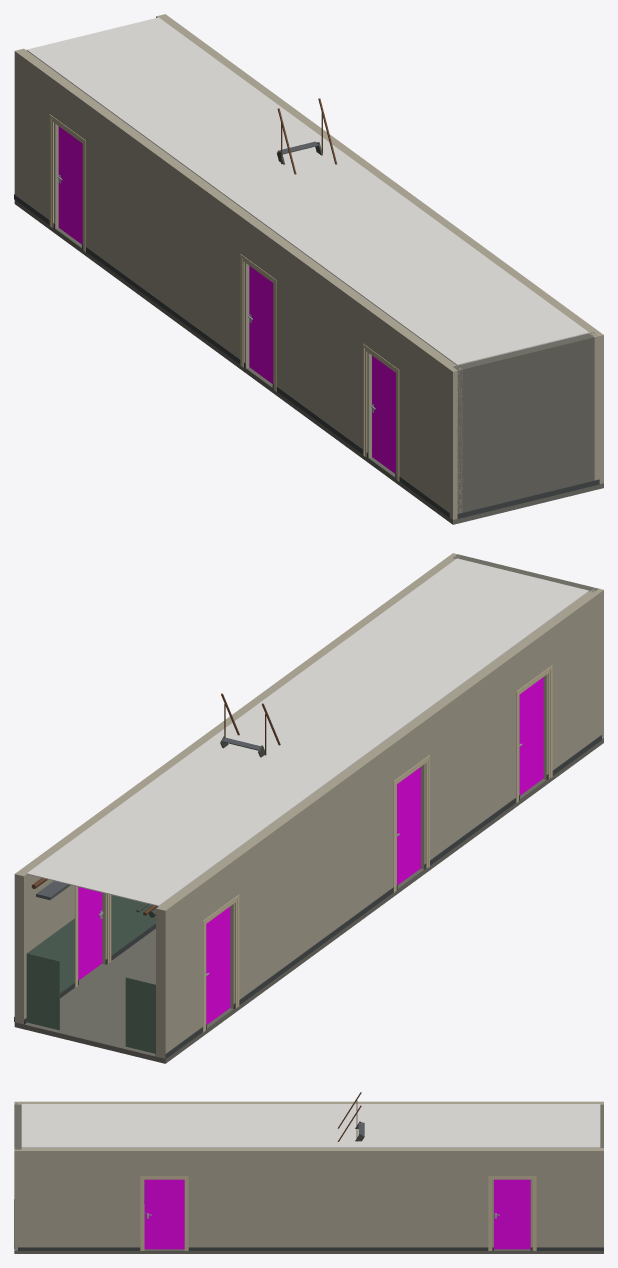
The model's file is ENV_W0_ServiceCorridor_16m.glb.
3 views of the same model, one above another, from view 1: azimuth 30°, elevation 25°; view 2: azimuth 150°, elevation 25°; view 3: azimuth 270°, elevation 25° (orthographic). The views are drawn at different scales.
Visible parts, largest first — view 1: ENV_W0_ServiceCorridor_16m_Architecture, ENV_W0_ServiceCorridor_16m_Ceiling, ENV_W0_ServiceCorridor_16m_Posts, DOOR_Service_Historic_1200_Leaf_COL-colonly.001, DOOR_Service_Historic_1200_Leaf_COL-colonly.002, DOOR_Service_Historic_1200_Leaf_COL-colonly.003, DOOR_Service_Historic_1200_Frame.003, DOOR_Service_Historic_1200_Frame.002, DOOR_Service_Historic_1200_Frame.001, PROP_Stair_Service_Historic_Mesh; view 2: ENV_W0_ServiceCorridor_16m_Architecture, ENV_W0_ServiceCorridor_16m_Ceiling, ENV_W0_ServiceCorridor_16m_Dado, DOOR_Service_Historic_1200_Leaf_COL-colonly.003, DOOR_Service_Historic_1200_Leaf_COL-colonly.001, DOOR_Service_Historic_1200_Leaf_COL-colonly.002, DOOR_Service_Historic_1200_Leaf_COL-colonly.004, DOOR_Service_Historic_1200_Frame.002, DOOR_Service_Historic_1200_Frame.003, DOOR_Service_Historic_1200_Frame.001, PROP_Stair_Service_Historic_Mesh; view 3: ENV_W0_ServiceCorridor_16m_Architecture, ENV_W0_ServiceCorridor_16m_Ceiling, DOOR_Service_Historic_1200_Leaf_COL-colonly.005, DOOR_Service_Historic_1200_Leaf_COL-colonly.004, DOOR_Service_Historic_1200_Frame.004, DOOR_Service_Historic_1200_Frame.005, ENV_W0_ServiceCorridor_16m_Posts, PROP_Stair_Service_Historic_Mesh.
Boxes of the visible parts, x1,y1,x2,y2 form: ENV_W0_ServiceCorridor_16m_Architecture: [14, 14, 603, 524]; ENV_W0_ServiceCorridor_16m_Ceiling: [26, 17, 588, 365]; ENV_W0_ServiceCorridor_16m_Posts: [447, 331, 603, 519]; DOOR_Service_Historic_1200_Leaf_COL-colonly.001: [58, 126, 82, 244]; DOOR_Service_Historic_1200_Leaf_COL-colonly.002: [249, 266, 273, 383]; DOOR_Service_Historic_1200_Leaf_COL-colonly.003: [372, 355, 395, 473]; DOOR_Service_Historic_1200_Frame.003: [363, 343, 399, 481]; DOOR_Service_Historic_1200_Frame.002: [240, 254, 276, 391]; DOOR_Service_Historic_1200_Frame.001: [49, 114, 85, 252]; PROP_Stair_Service_Historic_Mesh: [277, 98, 337, 174]; ENV_W0_ServiceCorridor_16m_Architecture: [14, 554, 603, 1063]; ENV_W0_ServiceCorridor_16m_Ceiling: [26, 558, 588, 906]; ENV_W0_ServiceCorridor_16m_Dado: [26, 895, 155, 1053]; DOOR_Service_Historic_1200_Leaf_COL-colonly.003: [519, 677, 543, 795]; DOOR_Service_Historic_1200_Leaf_COL-colonly.001: [206, 906, 230, 1024]; DOOR_Service_Historic_1200_Leaf_COL-colonly.002: [397, 767, 420, 884]; DOOR_Service_Historic_1200_Leaf_COL-colonly.004: [78, 887, 102, 979]; DOOR_Service_Historic_1200_Frame.002: [393, 755, 429, 892]; DOOR_Service_Historic_1200_Frame.003: [516, 665, 552, 803]; DOOR_Service_Historic_1200_Frame.001: [203, 895, 239, 1032]; PROP_Stair_Service_Historic_Mesh: [220, 693, 280, 757]; ENV_W0_ServiceCorridor_16m_Architecture: [14, 1101, 603, 1253]; ENV_W0_ServiceCorridor_16m_Ceiling: [21, 1104, 600, 1147]; DOOR_Service_Historic_1200_Leaf_COL-colonly.005: [144, 1179, 184, 1249]; DOOR_Service_Historic_1200_Leaf_COL-colonly.004: [494, 1179, 530, 1249]; DOOR_Service_Historic_1200_Frame.004: [488, 1176, 536, 1250]; DOOR_Service_Historic_1200_Frame.005: [140, 1176, 188, 1250]; ENV_W0_ServiceCorridor_16m_Posts: [14, 1101, 21, 1250]; PROP_Stair_Service_Historic_Mesh: [337, 1092, 364, 1141].
Size of what is drawn, in the model's own units: 3.26 by 4.21 by 16.11.
